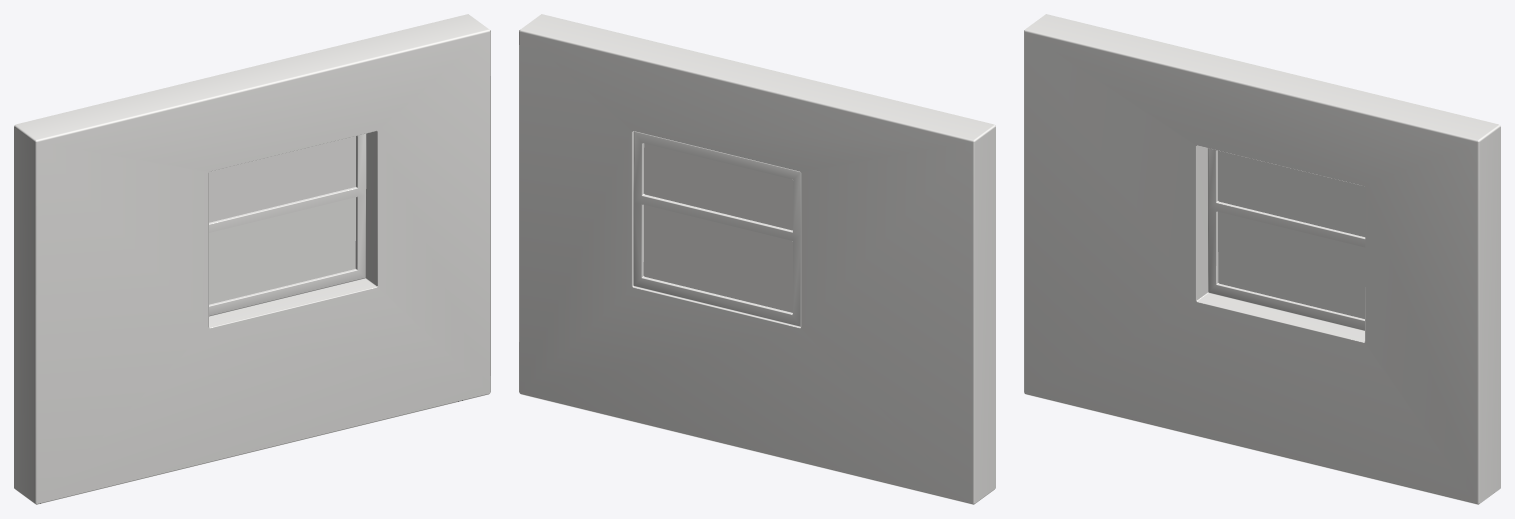
Rendered from Wall_19.glb.
The picture shows the model from 3 angles, left to right: view 1: azimuth 30°, elevation 25°; view 2: azimuth 150°, elevation 25°; view 3: azimuth 330°, elevation 25°; orthographic projection.
Visible parts, largest first — view 1: Wall_19; view 2: Wall_19; view 3: Wall_19.
Part boxes in pixels (box(x1,y1,x2,y2)): Wall_19: box(14, 14, 490, 504); Wall_19: box(519, 14, 995, 504); Wall_19: box(1024, 14, 1500, 504).
Size of the model in its own units: 4.6 by 3.52 by 0.4.
Materials: 2 (2 with a texture image).
